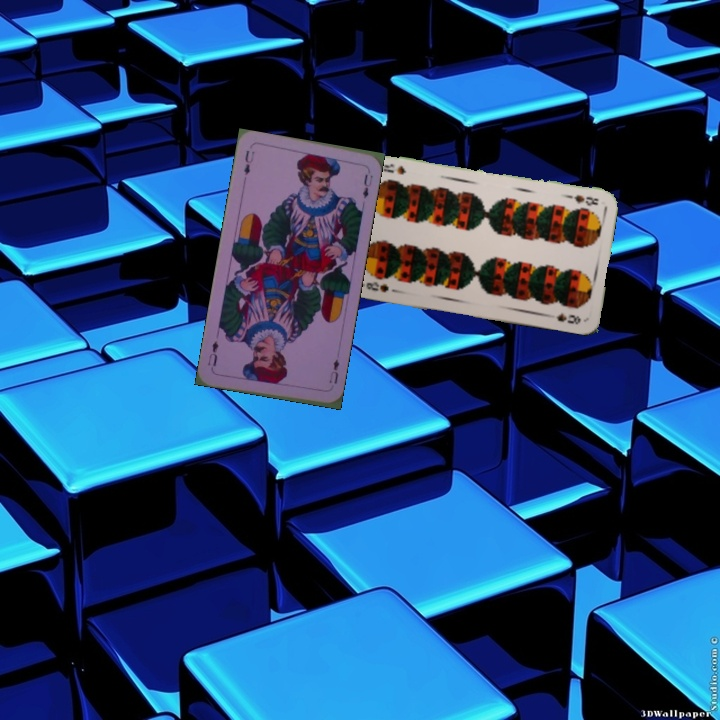EU: (239, 146, 257, 177), (325, 355, 342, 386)
S8: (562, 191, 602, 208), (358, 278, 391, 295)
